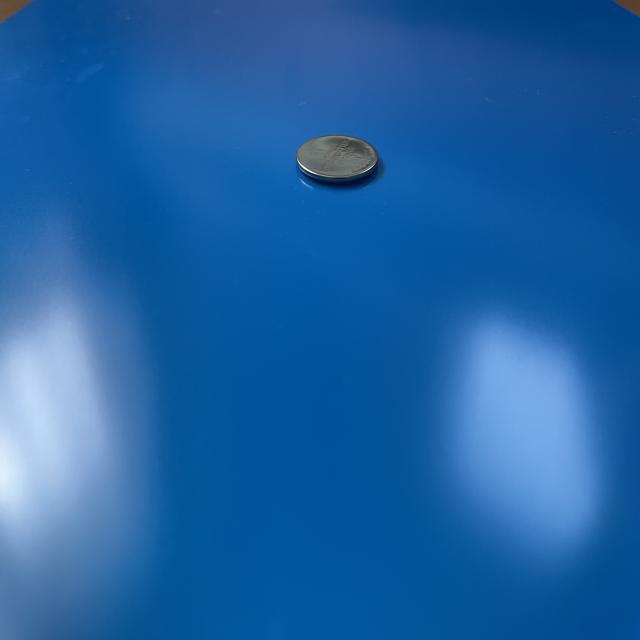COIN: (294, 129, 380, 189)
